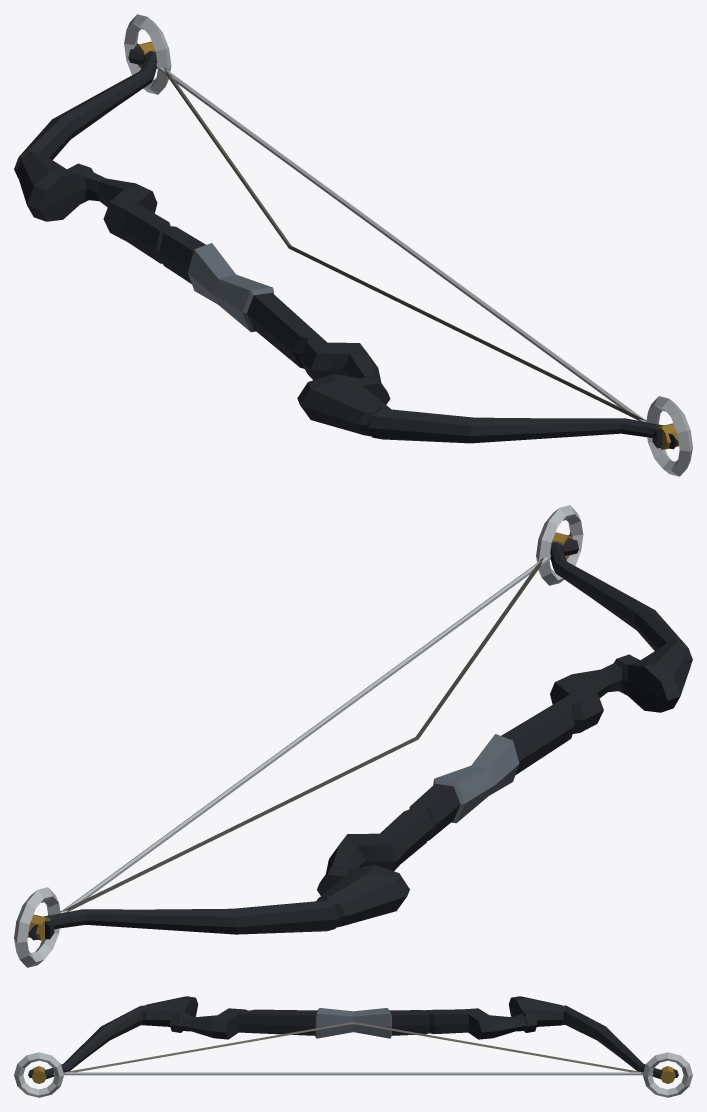
File: compound-bow.glb
3 renders of one model, top to bottom at view 1: azimuth 30°, elevation 25°; view 2: azimuth 150°, elevation 25°; view 3: azimuth 270°, elevation 25°, orthographic. The views are drawn at different scales.
Visible parts, largest first — view 1: m; view 2: m; view 3: m.
Boxes of the visible parts, <box> form: m: <box>14,14,692,476</box>; m: <box>14,505,692,967</box>; m: <box>14,996,692,1097</box>.
Size of the model in its own units: 0.1868 by 0.0533 by 0.72.
